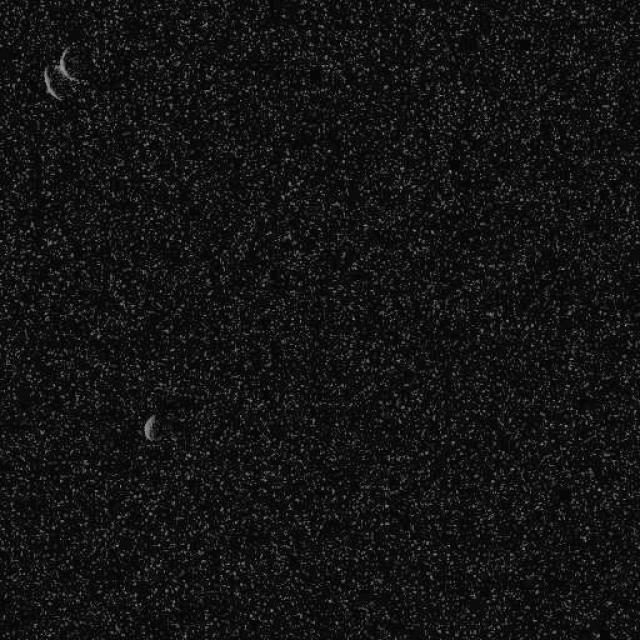D2: (40, 42, 90, 104), (142, 412, 158, 442)
